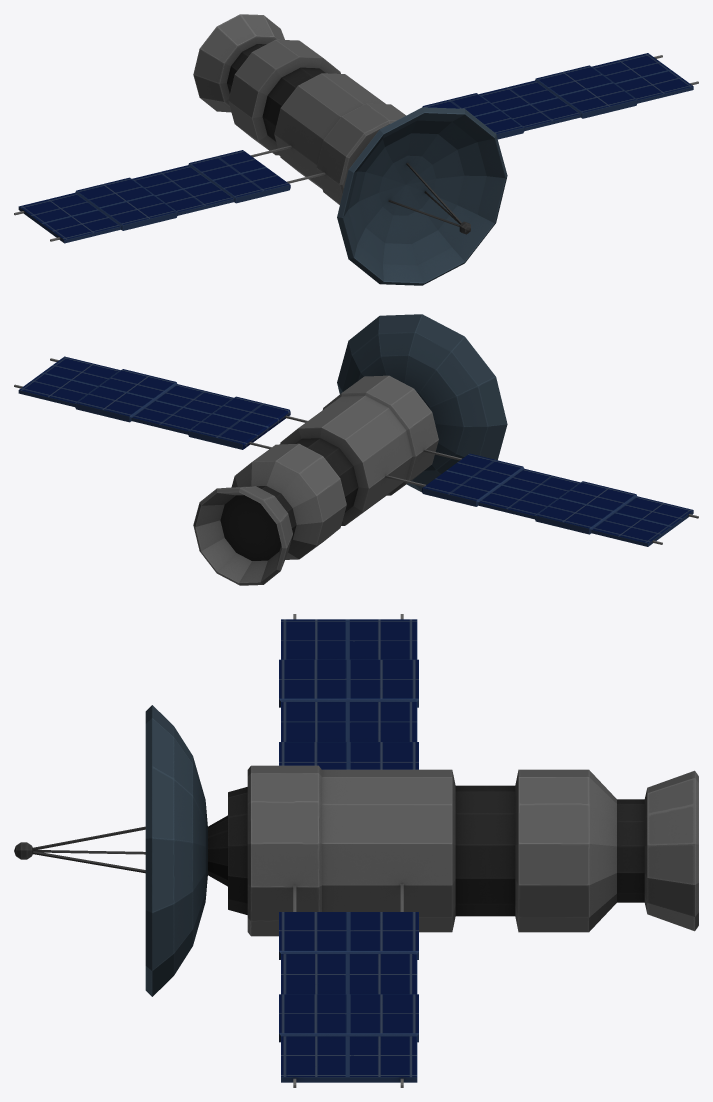
3 renders of one model, top to bottom at view 1: azimuth 30°, elevation 25°; view 2: azimuth 150°, elevation 25°; view 3: azimuth 270°, elevation 25°, orthographic. The views are drawn at different scales.
Visible parts, largest first — view 1: node-0; view 2: node-0; view 3: node-0.
Part boxes in pixels (box(x1,y1,x2,y2)): node-0: box(14, 14, 698, 285); node-0: box(14, 314, 698, 585); node-0: box(14, 614, 698, 1087).
Size of the model in its own units: 41.03 by 10.8 by 25.21.
Materials: 1 (1 with a texture image).
